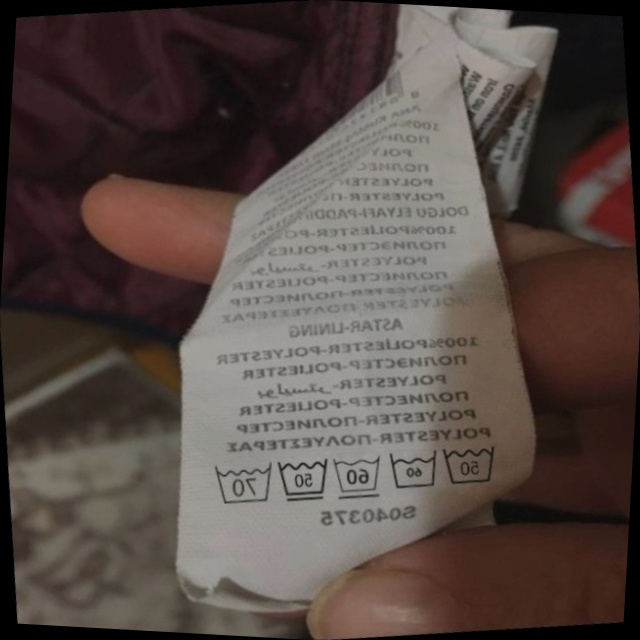50C: (434, 432, 507, 496), (269, 449, 336, 510)
60C: (324, 446, 388, 506), (380, 441, 445, 499)
70C: (203, 454, 278, 513)
